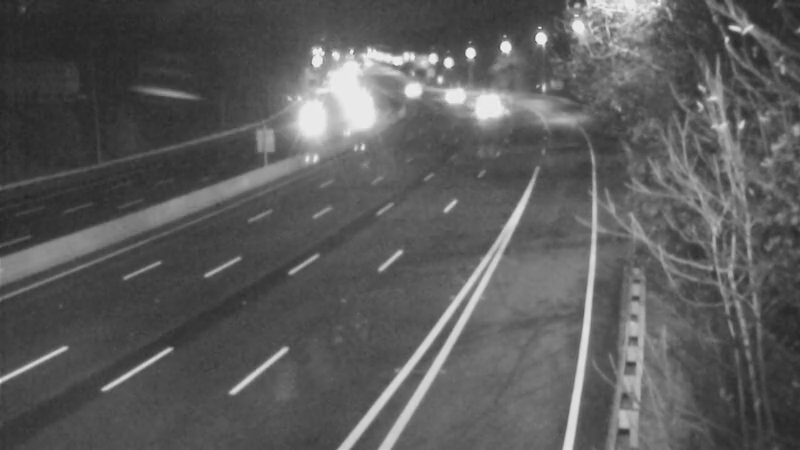vehicle: (382, 63, 432, 113), (419, 70, 469, 120), (460, 73, 510, 123), (469, 82, 519, 132), (284, 96, 334, 146), (333, 88, 383, 138)
